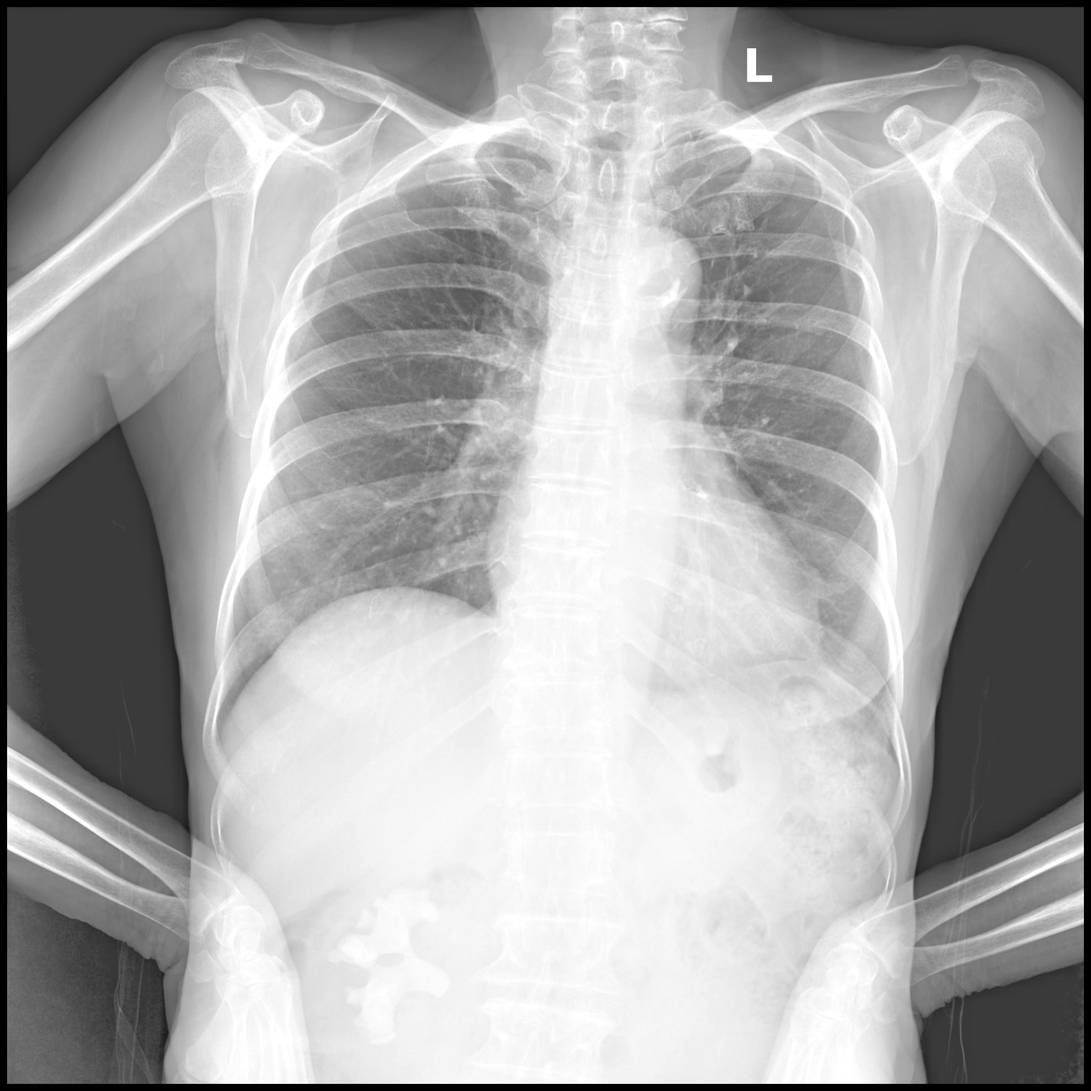Aortic enlargement: (610, 223, 701, 333)
Pleural thickening: (656, 125, 721, 146), (493, 125, 555, 146)
